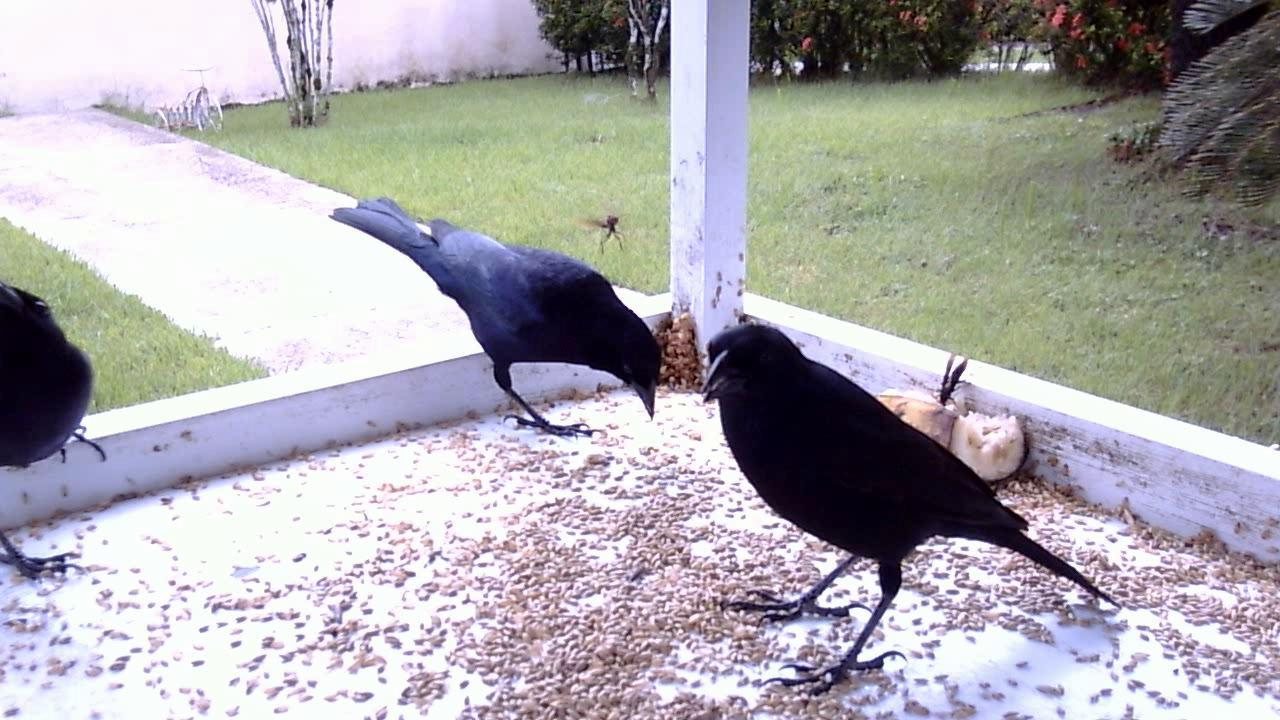chupim: (692, 313, 1127, 699), (323, 200, 660, 456), (1, 264, 124, 595)
